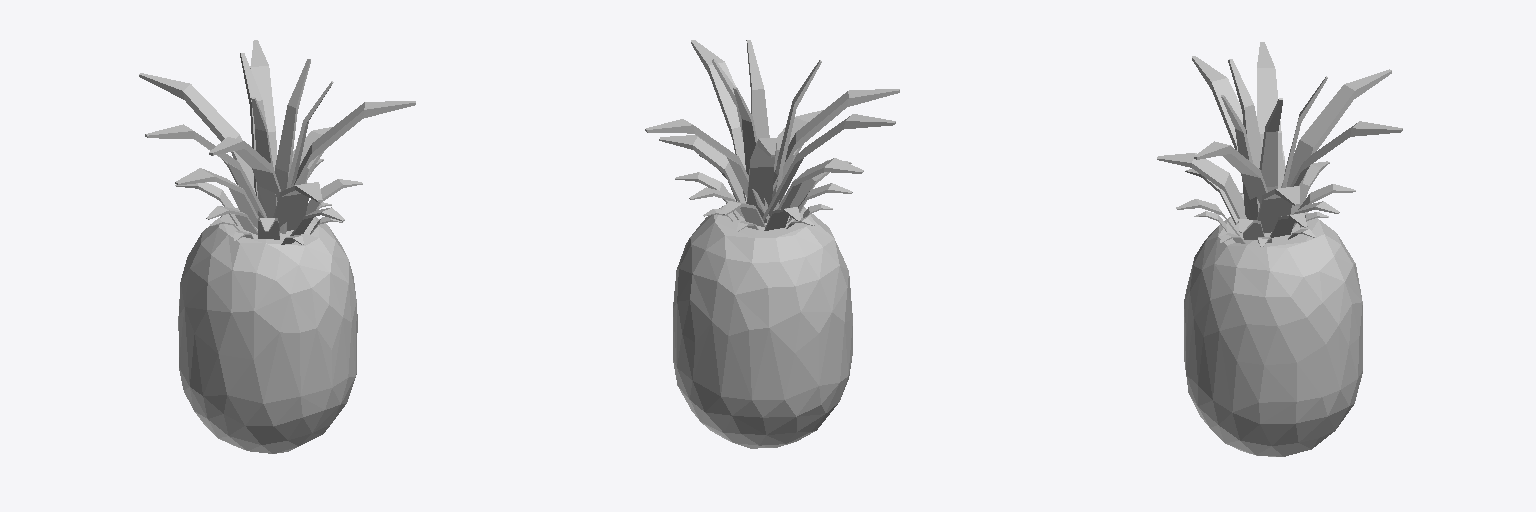
The model's file is Pineapple.obj.
3 renders of one model, left to right at view 1: azimuth 30°, elevation 25°; view 2: azimuth 150°, elevation 25°; view 3: azimuth 270°, elevation 25°, orthographic.
Visible parts, largest first — view 1: Cylinder.002_Cylinder.010; view 2: Cylinder.002_Cylinder.010; view 3: Cylinder.002_Cylinder.010.
Part boxes in pixels (x1,y1,x2,y2): Cylinder.002_Cylinder.010: (139,40,415,453); Cylinder.002_Cylinder.010: (645,40,899,448); Cylinder.002_Cylinder.010: (1157,42,1402,456).
Bounding box in the file's own units: 1.63 × 2.42 × 1.47.